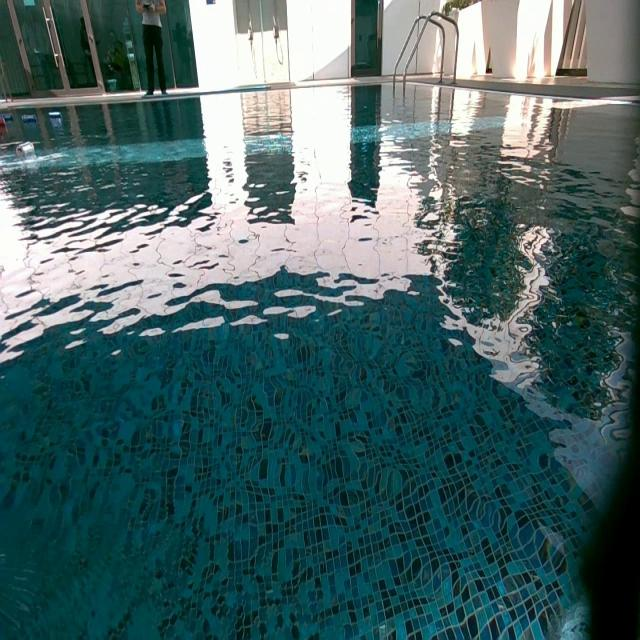Cans: (14, 141, 34, 157), (49, 111, 64, 123), (22, 114, 36, 124), (0, 115, 7, 128), (3, 114, 12, 123)
